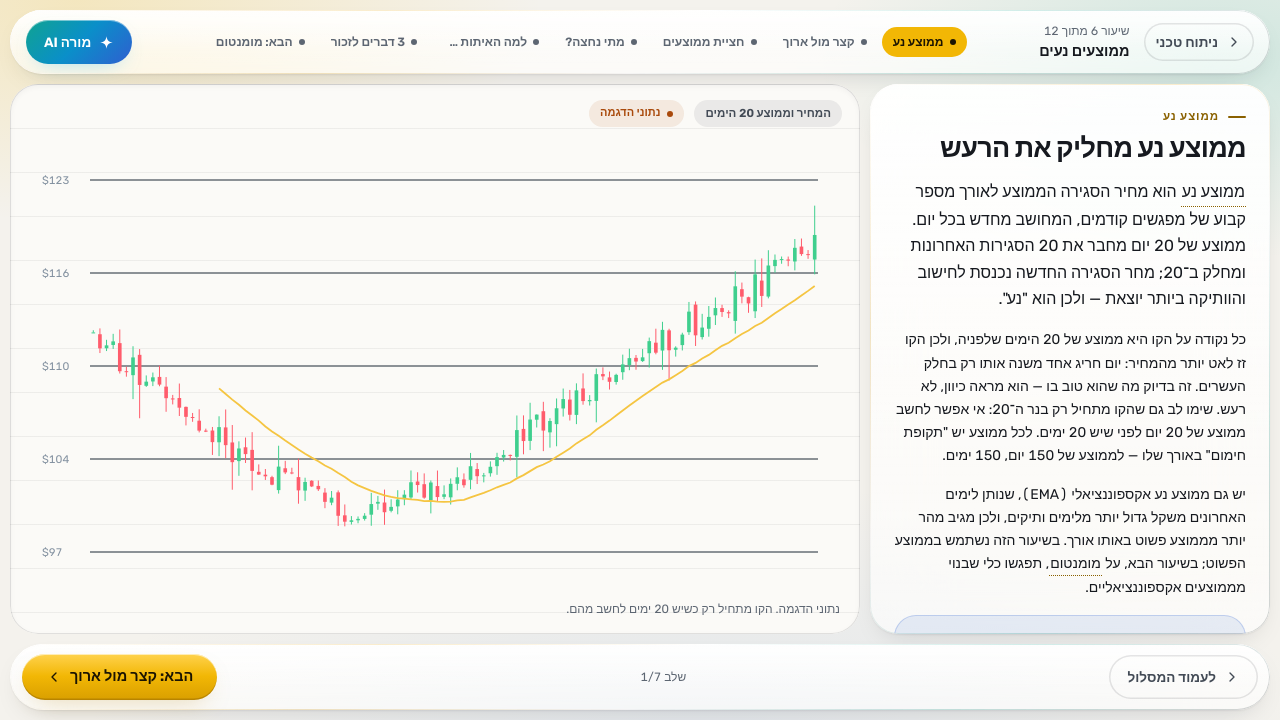
Test: T6 in the lesson workspace › pick the crossover with the keyboard slider: a miss says so, the hit explains the lag and offers Apply
Expected: the heading "ממוצע נע מחליק את הרעש" is shown, [894,133,1246,164]
Step 1. Click the button "מתי נחצה?" → [601, 42], box [554,27,648,57]
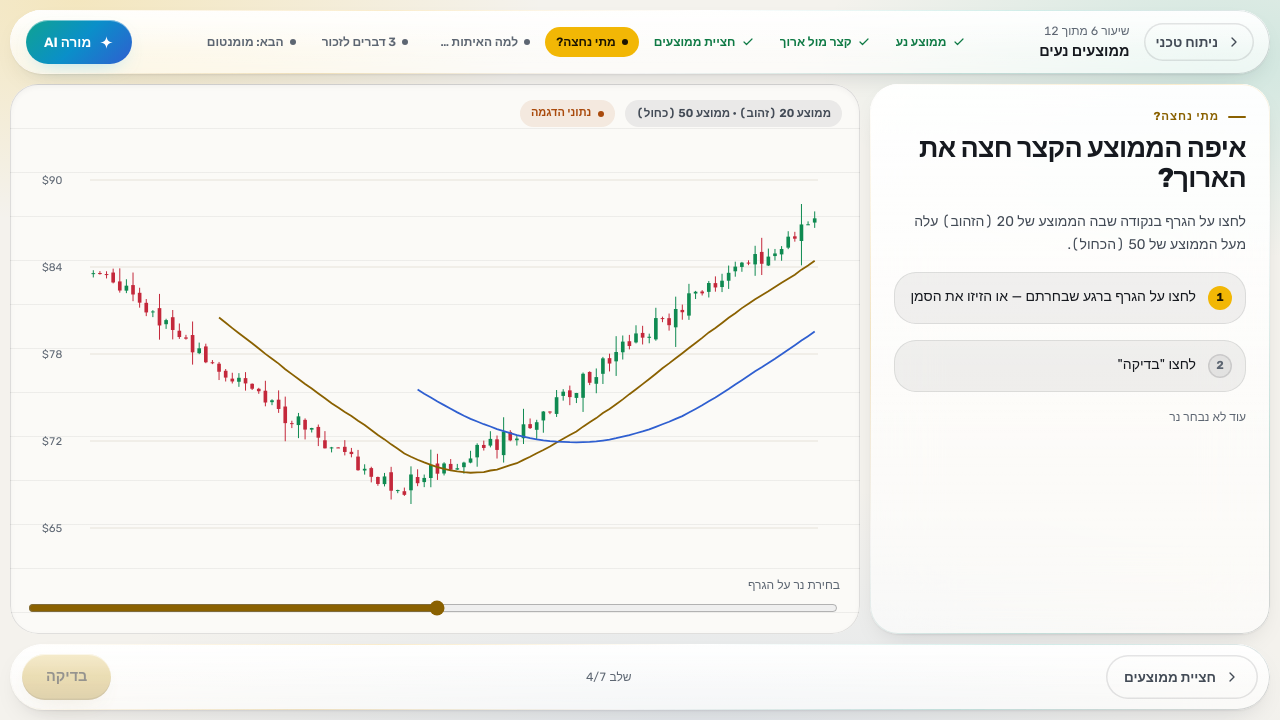
Expected: the button "בדיקה" is disabled, [22,654,111,700]
Step 2. Set the slider labelled "בחירת נר על הגרף" to "51" → [408, 608], box [28,600,838,616]
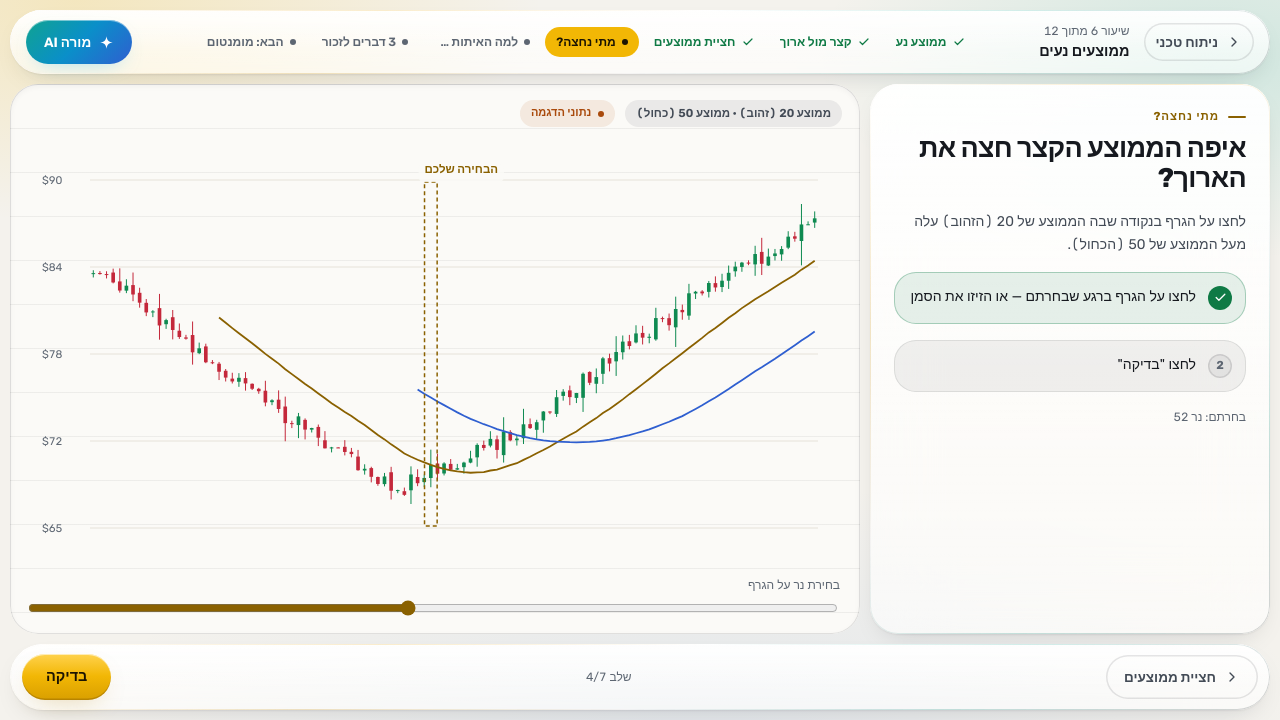
Step 3. Click the button "בדיקה" → [67, 677], box [22,654,111,700]
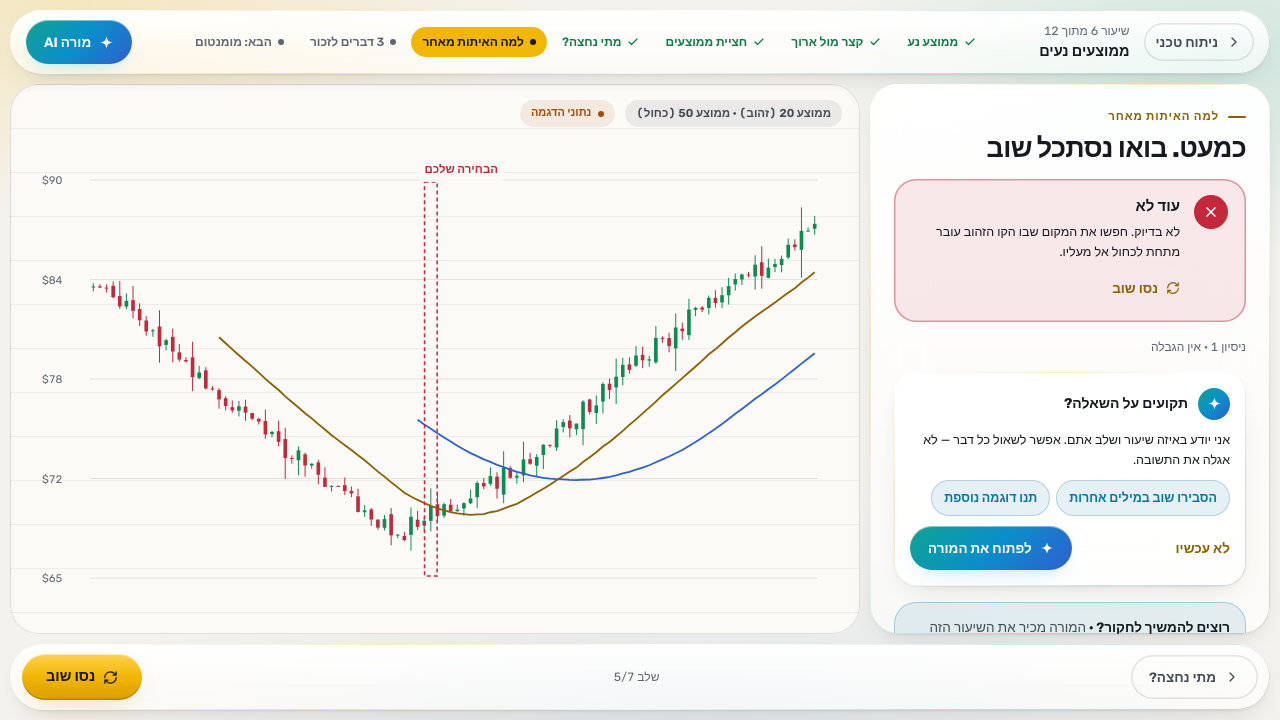
Expected: the text "לא בדיוק. חפשו את המקום שבו הקו הזהוב עובר מתחת לכחול אל מעליו." is shown, [912,222,1180,262]
Step 4. Click the button "נסו שוב" in the row of "שלב 5/7" → [82, 677], box [22,654,142,700]
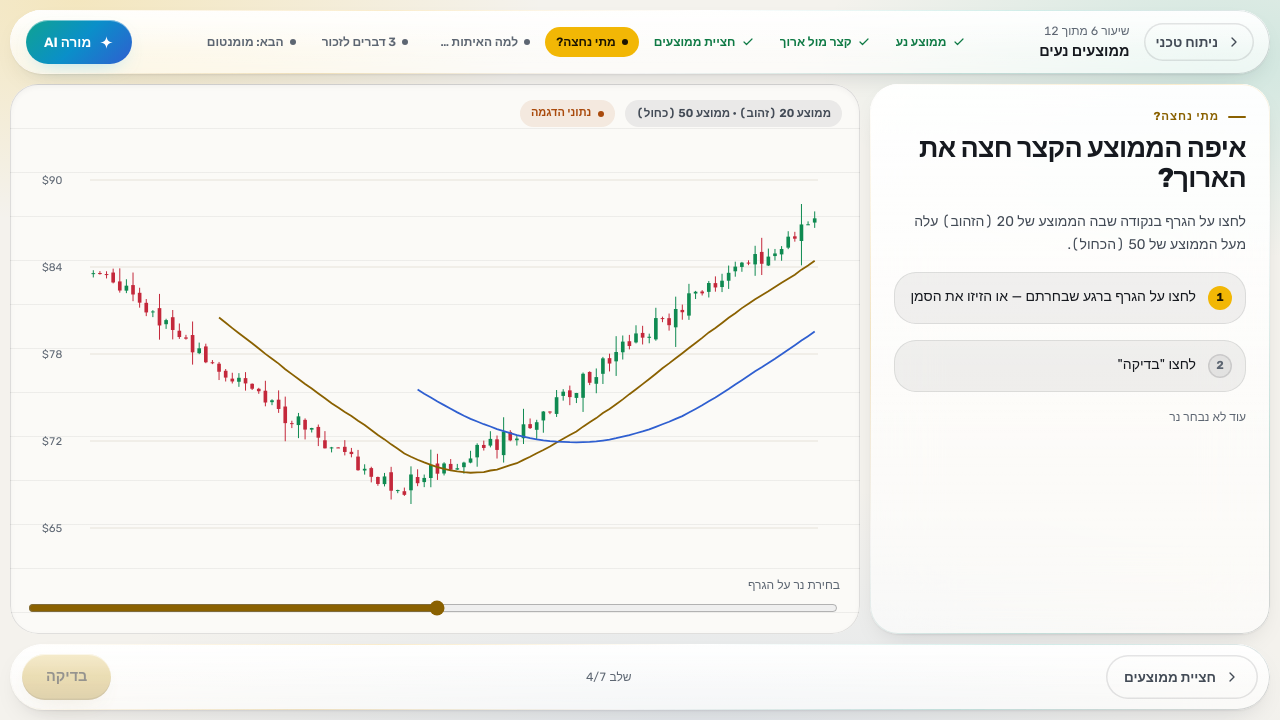
Step 5. Set the slider labelled "בחירת נר על הגרף" to "72" → [560, 608], box [28,600,838,616]
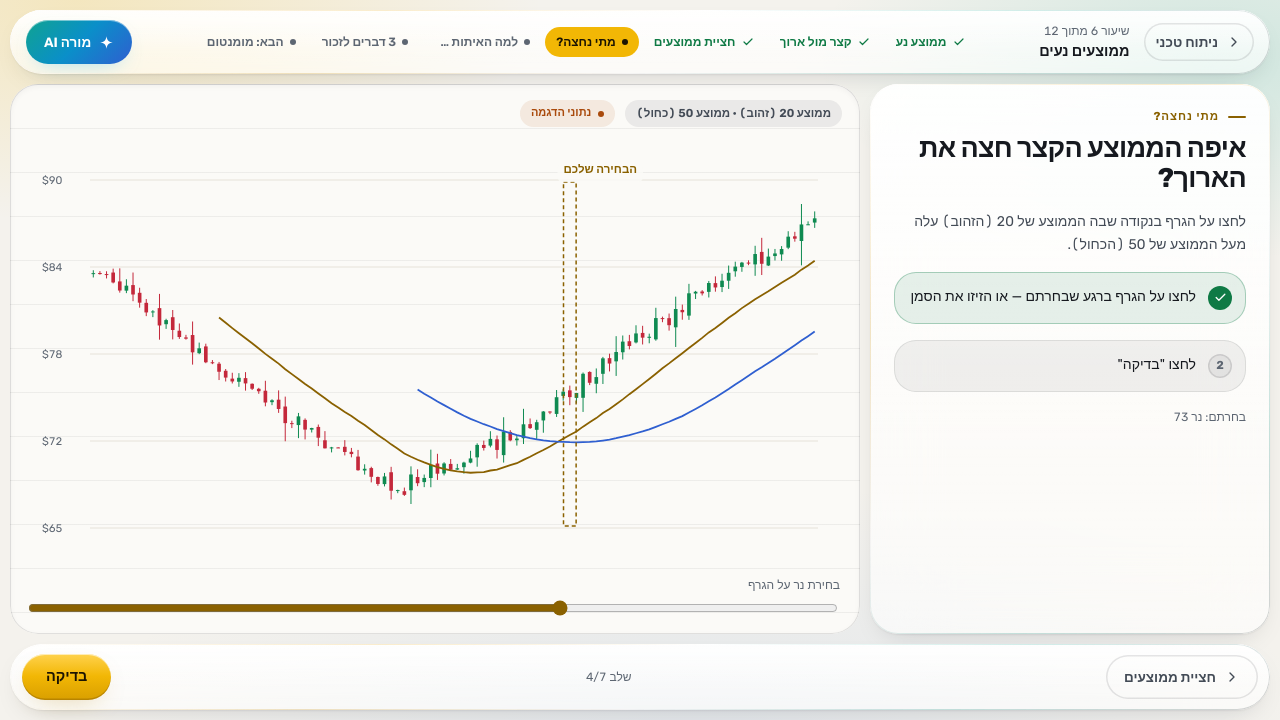
Step 6. Click the button "בדיקה" → [67, 677], box [22,654,111,700]
(page scrolled)
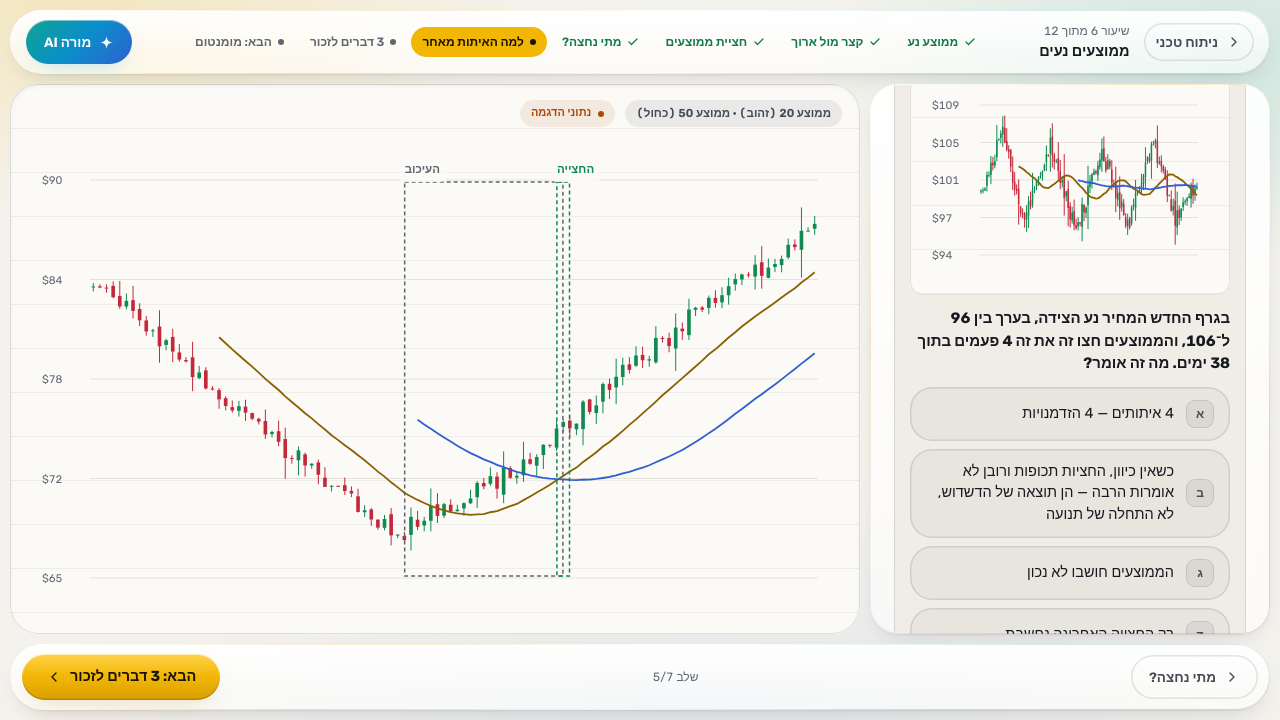
Expected: the element "יישום · גרף חדש" is shown, [894,84,1246,634]
